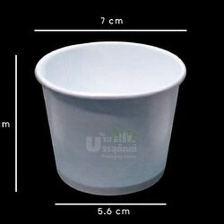paper_cup: (28, 36, 192, 200)
